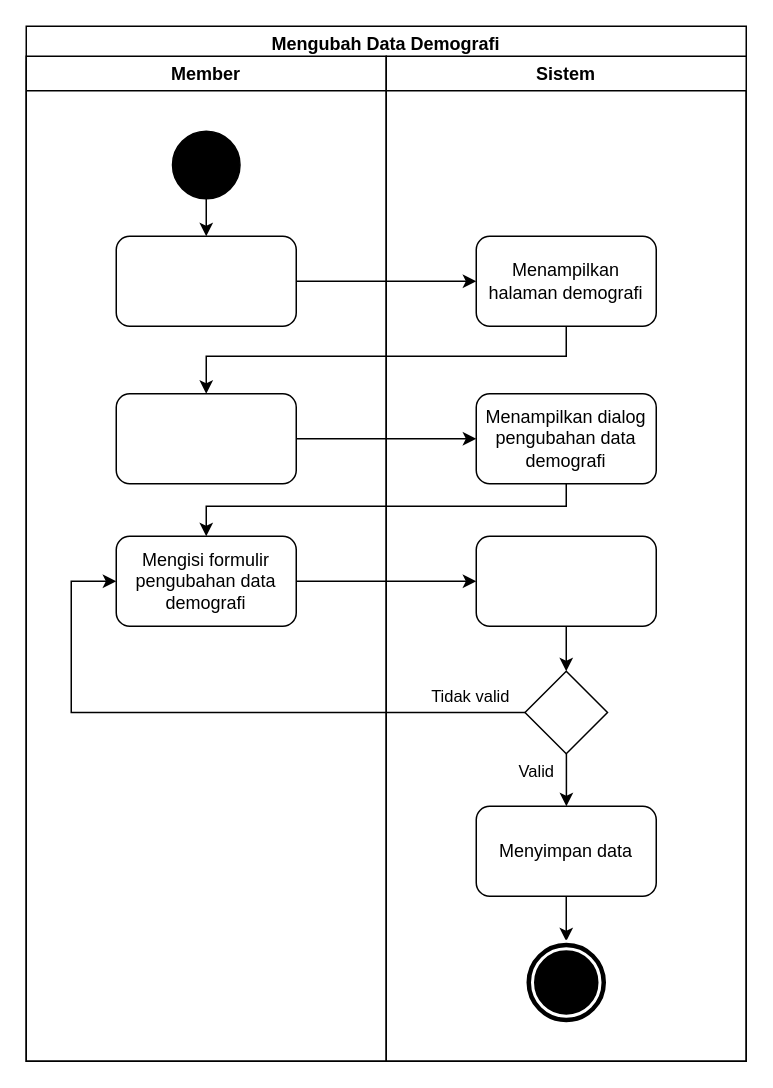
Image size: 773x1088. Some labels were removed from this diagram. Here are the shapes that lost their labels. From the top down, the centre of each, then its label:
point (205, 280): Membuka halaman demografi
point (205, 438): Memilih fitur ubah pada data demografi yang ingin diubah
point (565, 580): Melakukan validasi data
